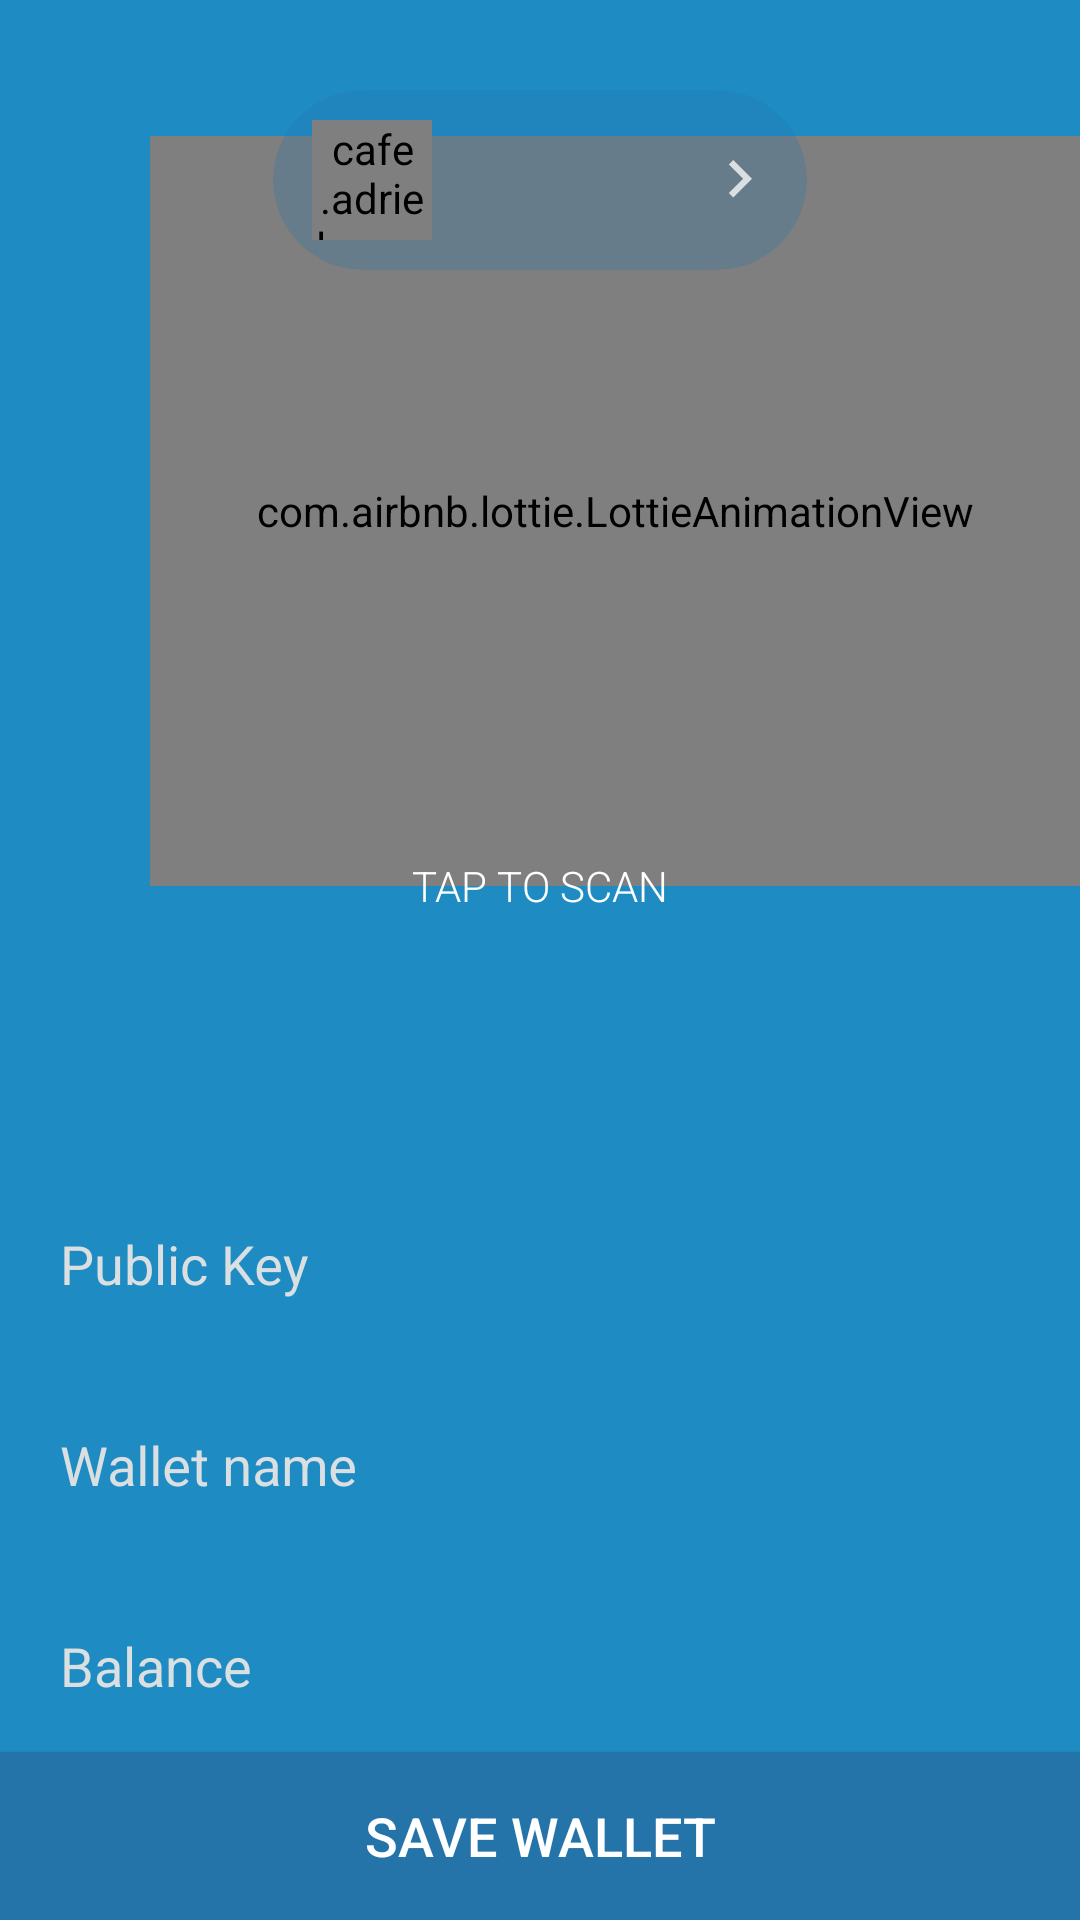

Named icons in this screenshot (1080×1920) and their bounding boxes, (x1, y1, x2, y2):
arrow right: (729, 160, 752, 198)
